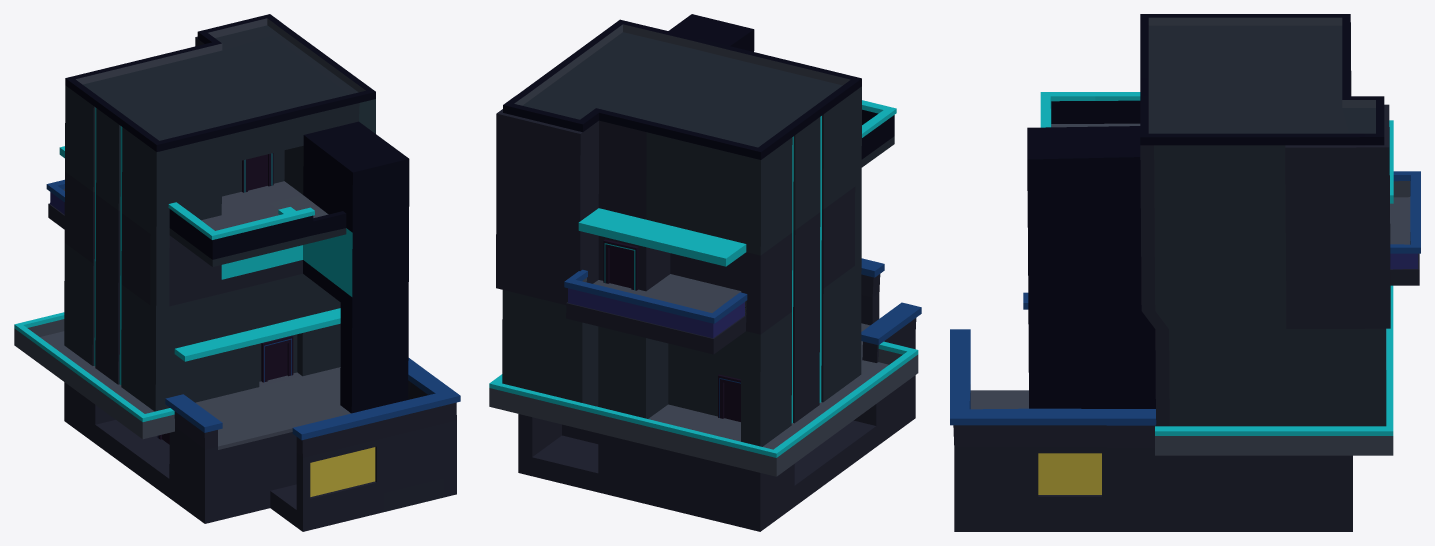
File: Building_Apartment06.fbx
3 views of the same model, side by side, from view 1: azimuth 30°, elevation 25°; view 2: azimuth 150°, elevation 25°; view 3: azimuth 270°, elevation 25° (orthographic). The views are drawn at different scales.
Visible parts, largest first — view 1: Cube.109; view 2: Cube.109; view 3: Cube.109.
Part boxes in pixels (x1,y1,x2,y2): Cube.109: [14, 14, 460, 531]; Cube.109: [489, 14, 921, 531]; Cube.109: [950, 14, 1420, 531].
Bounding box in the file's own units: 1091 × 1376 × 1485.
